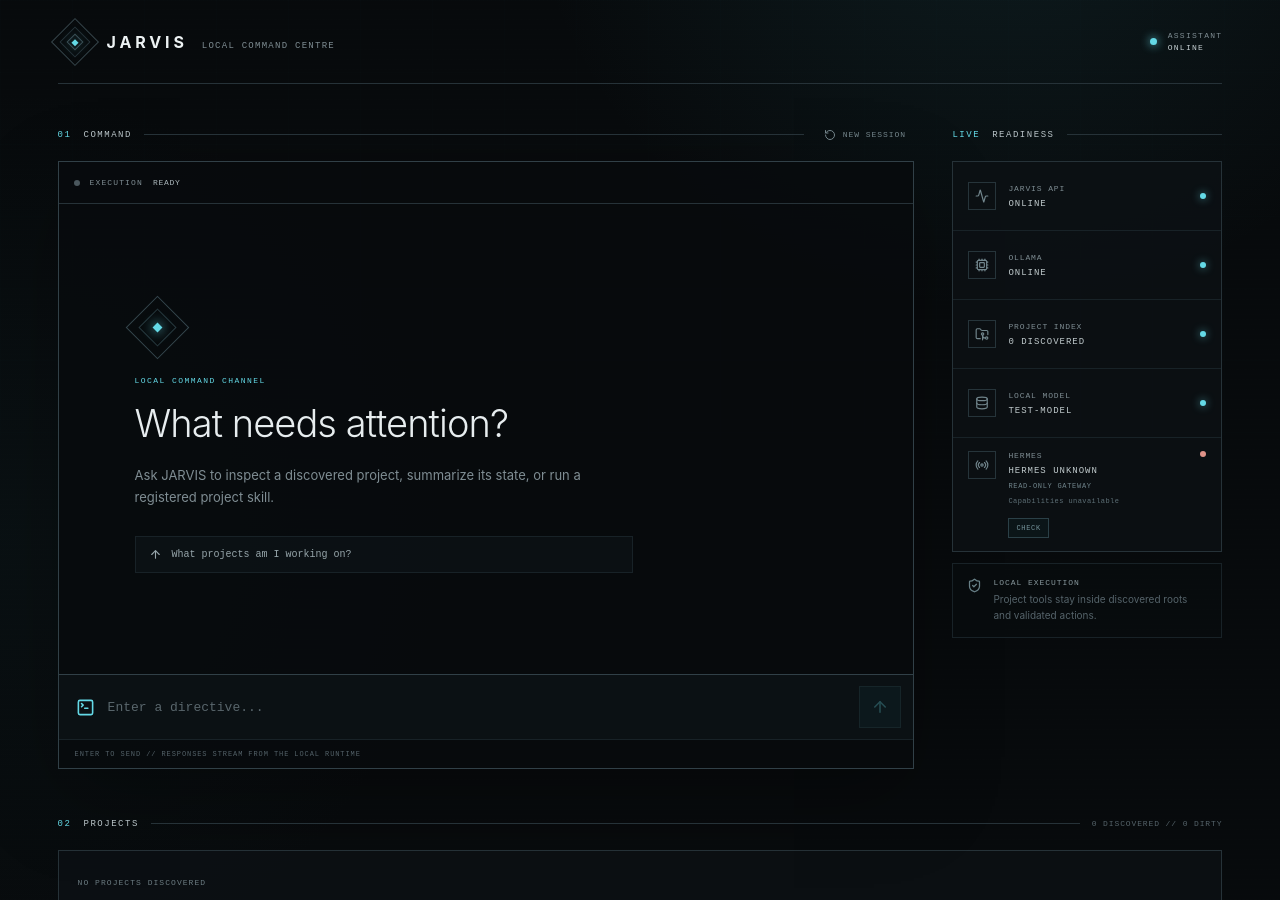
Test: Dashboard › cleans up controls after run.failed
The image size is (1280, 900).
Expected: the text "ONLINE" below "ASSISTANT" is shown, [1168,43,1204,52]
In the field named "Enter a command": (477, 707) [108,686,846,728], type "Run"
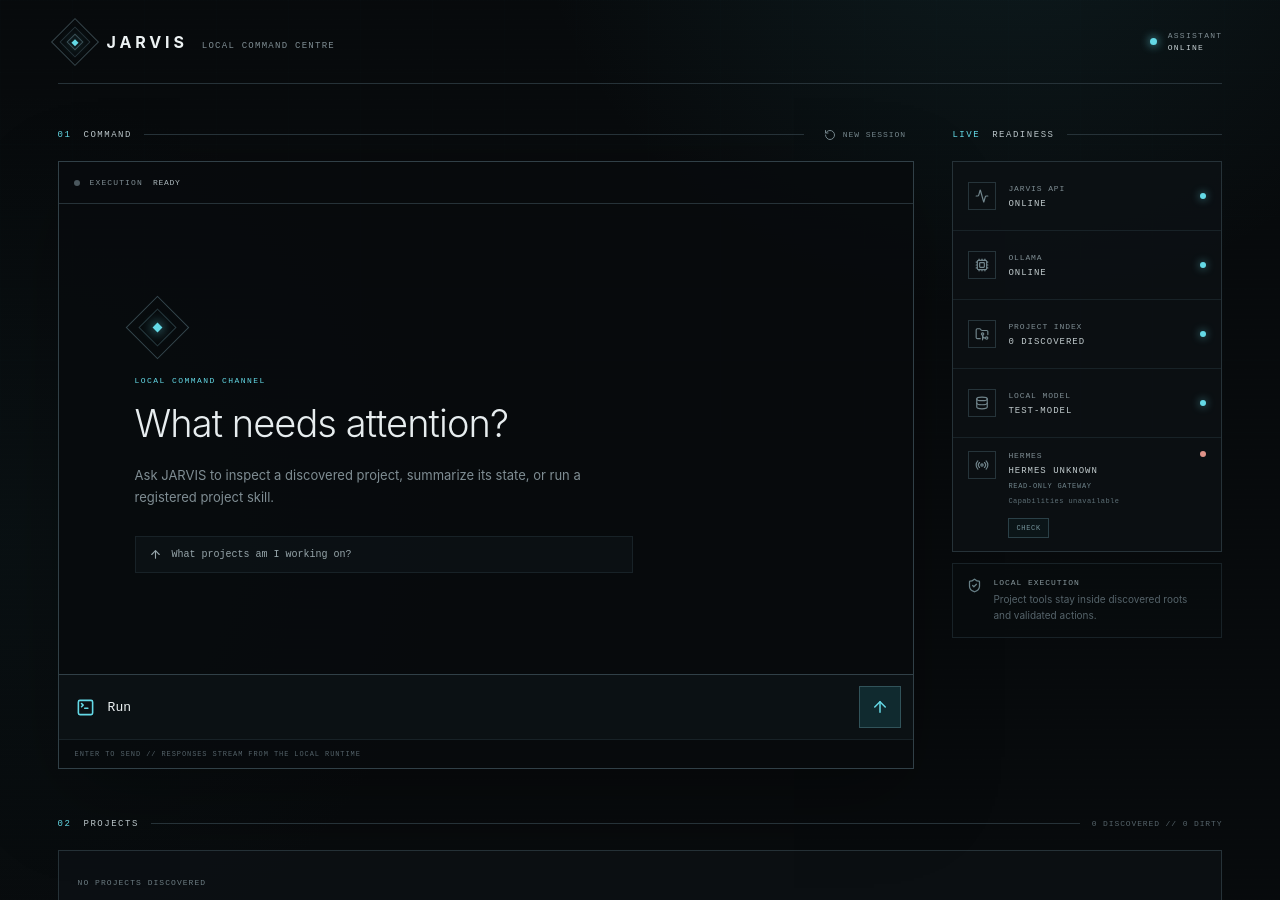
Click the button named "Send message": (880, 707) [859,686,901,728]
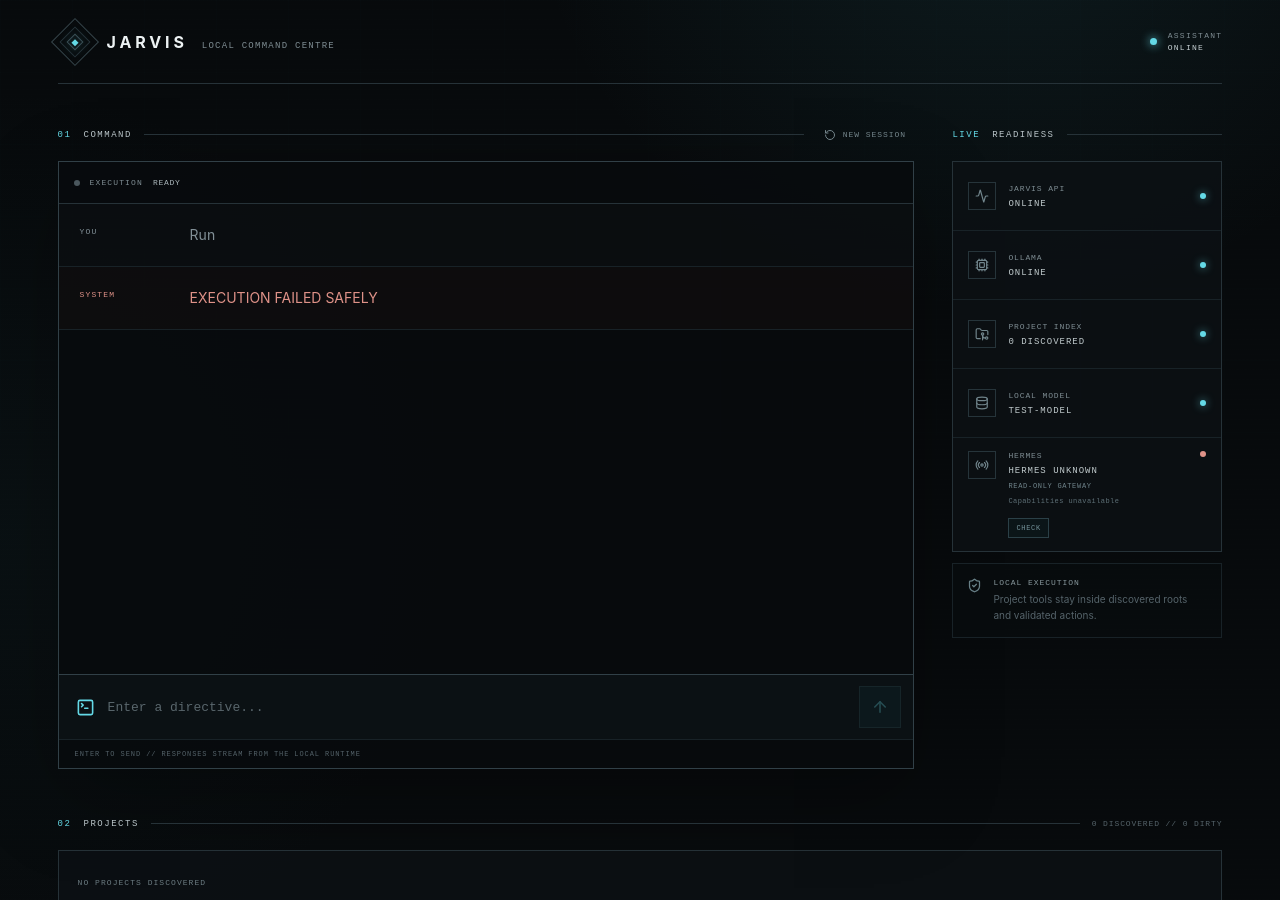
Expected: the field named "Enter a command" is enabled, [108,686,846,728]
Now the text "EXECUTION FAILED SAFELY" is shown, box [190,289,378,306]
